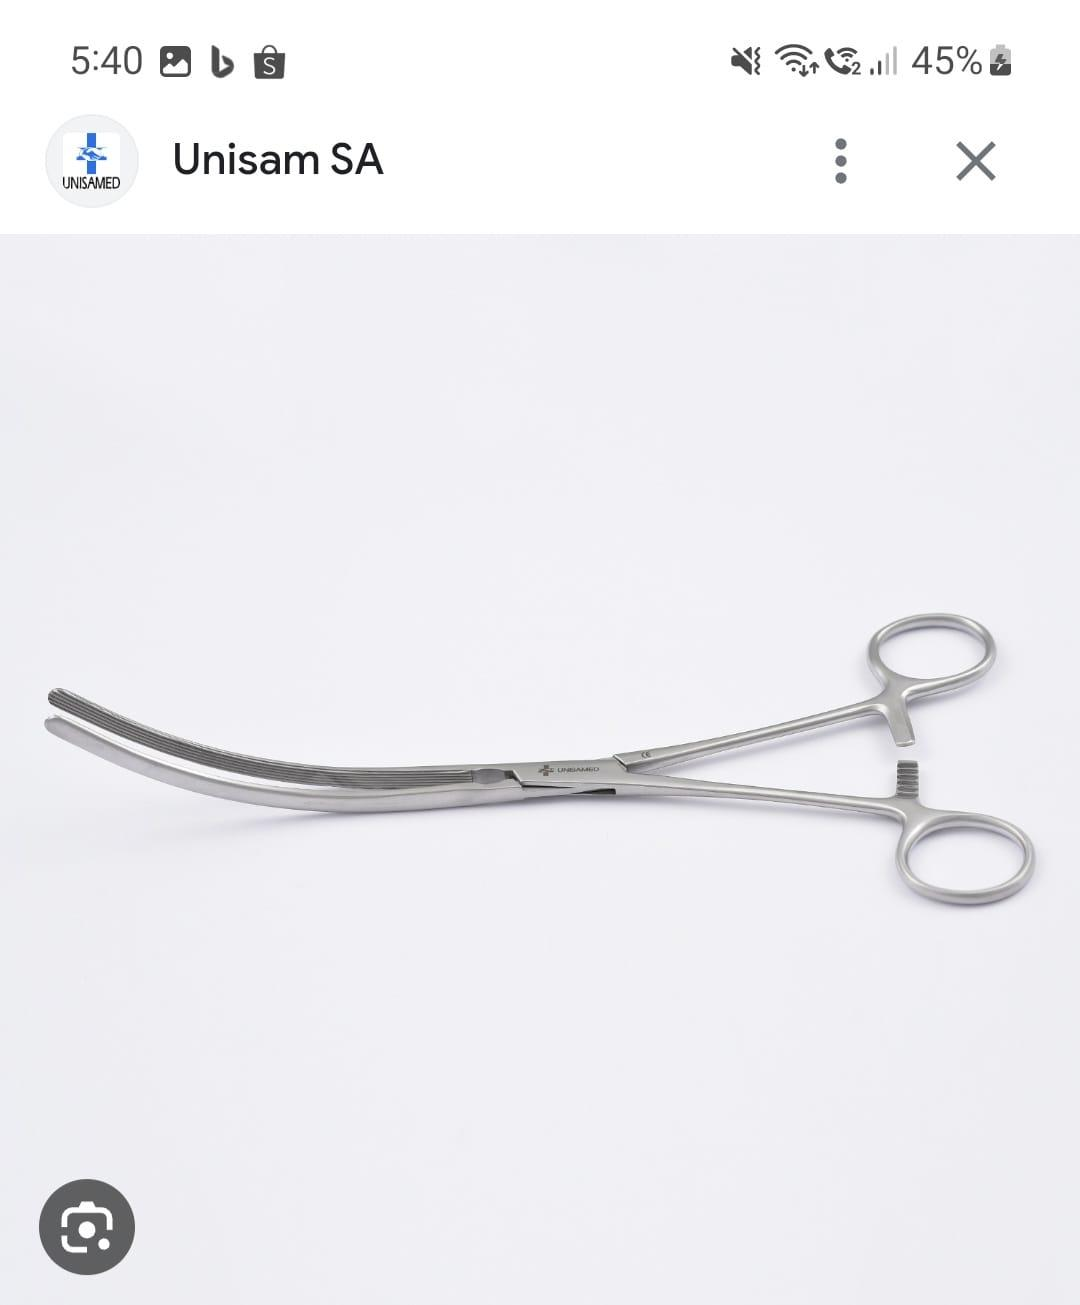Doyel Instestinal Forceps: (32, 588, 1040, 916)
